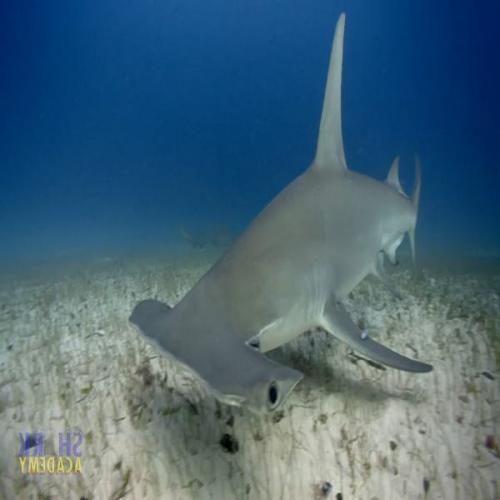shark-endangered: (128, 15, 434, 415)
